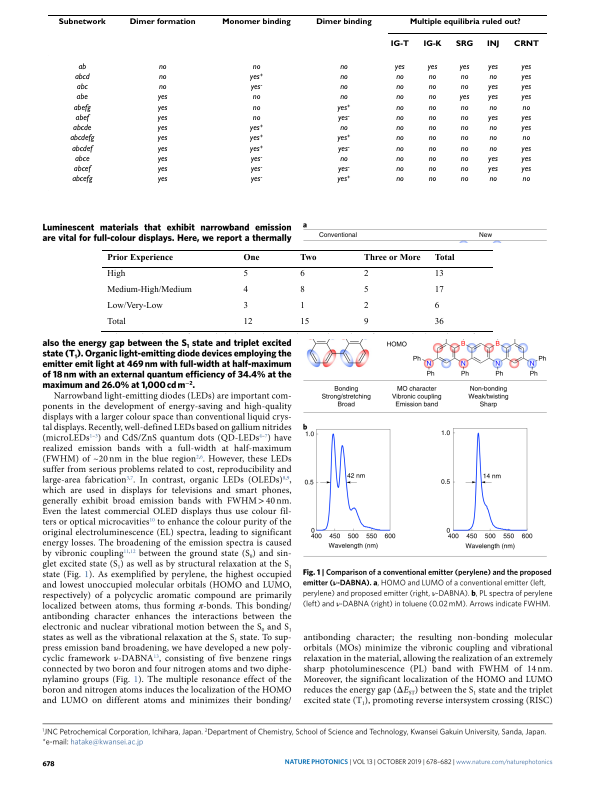borderless: (46, 13, 548, 192), (101, 248, 493, 331)
cell: (408, 18, 521, 27), (106, 285, 192, 295), (106, 252, 173, 262), (221, 18, 291, 27), (128, 18, 196, 27), (362, 252, 421, 262), (106, 301, 163, 311), (315, 18, 372, 27), (57, 18, 106, 27), (513, 40, 539, 49), (69, 134, 95, 143), (70, 144, 93, 154), (433, 252, 455, 262), (106, 269, 126, 279), (106, 317, 126, 327), (71, 175, 93, 184), (72, 103, 91, 113), (242, 252, 260, 262), (299, 252, 317, 262), (389, 40, 409, 49), (422, 40, 442, 49), (454, 40, 474, 49), (72, 124, 92, 133), (72, 165, 91, 174), (73, 72, 90, 82), (73, 154, 90, 164), (74, 113, 90, 123), (249, 72, 264, 82), (336, 103, 351, 113), (249, 144, 264, 154), (249, 154, 263, 164), (485, 40, 500, 49), (249, 124, 264, 133), (249, 134, 264, 143), (336, 134, 351, 143), (336, 175, 351, 184), (337, 113, 350, 123), (337, 144, 350, 154), (249, 83, 263, 92), (249, 165, 263, 174), (249, 175, 263, 184), (426, 62, 438, 72), (458, 62, 470, 72), (520, 62, 532, 72), (520, 72, 532, 82), (156, 103, 168, 113), (156, 113, 168, 123), (520, 113, 532, 123), (156, 144, 168, 154), (520, 144, 532, 154), (156, 154, 168, 164), (520, 154, 532, 164), (75, 83, 88, 92), (75, 93, 88, 102), (337, 165, 350, 174), (433, 269, 444, 279), (433, 285, 444, 295), (242, 317, 253, 327), (299, 317, 310, 327), (433, 317, 444, 327), (394, 62, 405, 72), (487, 62, 498, 72), (487, 113, 498, 123), (487, 154, 498, 164), (520, 83, 532, 92), (156, 93, 168, 102), (458, 93, 470, 102), (520, 93, 532, 102), (156, 124, 168, 133), (520, 124, 532, 133), (156, 134, 168, 143), (156, 165, 168, 174), (520, 165, 532, 174), (156, 175, 168, 184), (77, 62, 87, 72), (157, 62, 167, 72), (251, 62, 261, 72), (157, 72, 167, 82), (427, 72, 437, 82), (459, 72, 469, 82), (251, 103, 261, 113), (427, 103, 437, 113), (459, 103, 469, 113), (521, 103, 531, 113), (251, 113, 261, 123), (427, 113, 437, 123), (459, 113, 469, 123), (427, 144, 437, 154), (459, 144, 469, 154), (427, 154, 437, 164), (459, 154, 469, 164), (487, 83, 498, 92), (487, 93, 498, 102), (487, 165, 498, 174), (339, 62, 348, 72), (339, 72, 348, 82), (395, 72, 404, 82), (488, 72, 497, 82), (157, 83, 167, 92), (427, 83, 437, 92), (459, 83, 469, 92), (251, 93, 261, 102), (427, 93, 437, 102), (395, 103, 404, 113), (488, 103, 497, 113), (395, 113, 404, 123), (427, 124, 437, 133), (459, 124, 469, 133), (427, 134, 437, 143), (459, 134, 469, 143), (521, 134, 531, 143), (395, 144, 404, 154), (488, 144, 497, 154), (339, 154, 348, 164), (395, 154, 404, 164), (427, 165, 437, 174), (459, 165, 469, 174), (427, 175, 437, 184), (459, 175, 469, 184), (521, 175, 531, 184), (339, 83, 348, 92), (395, 83, 404, 92), (339, 93, 348, 102), (395, 93, 404, 102), (339, 124, 348, 133), (395, 124, 404, 133), (488, 124, 497, 133), (395, 134, 404, 143), (488, 134, 497, 143), (395, 165, 404, 174), (395, 175, 404, 184), (488, 175, 497, 184), (362, 269, 369, 279), (362, 285, 369, 295), (362, 301, 369, 311), (433, 301, 440, 311), (362, 317, 369, 327), (242, 269, 248, 279), (299, 269, 305, 279), (242, 285, 248, 295), (299, 285, 305, 295), (242, 301, 248, 311), (299, 301, 305, 311)
